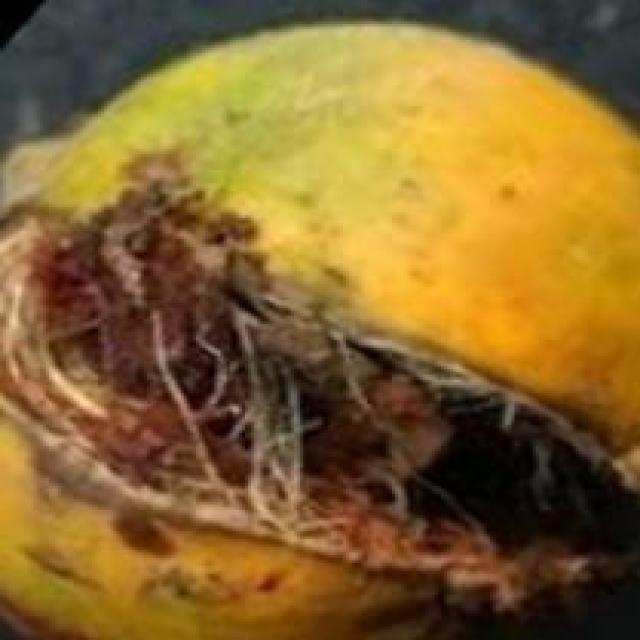damaged: (0, 13, 637, 637)
